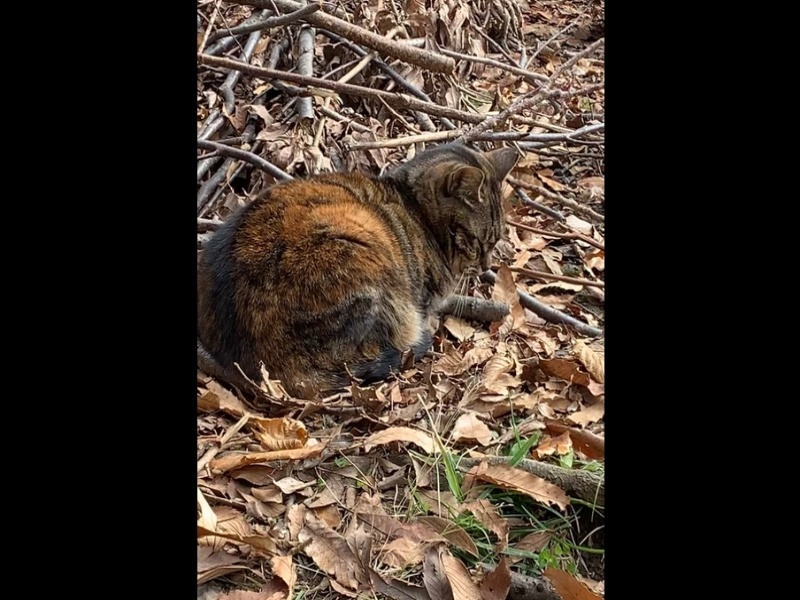cat: (200, 137, 523, 403)
